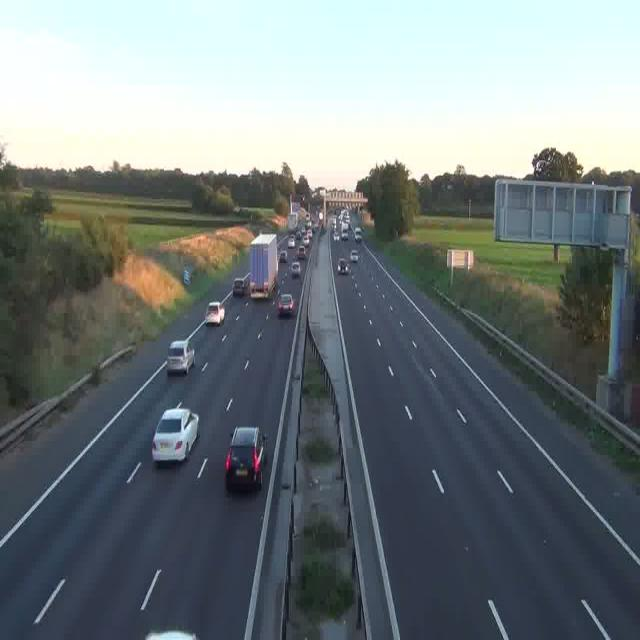car: (225, 428, 267, 492), (152, 406, 198, 462), (167, 340, 195, 372), (143, 629, 199, 640), (206, 302, 226, 326), (278, 292, 294, 316), (232, 278, 248, 300), (338, 256, 350, 273), (290, 262, 301, 278), (350, 249, 359, 262), (296, 248, 305, 261), (280, 249, 288, 262), (304, 236, 312, 248), (332, 232, 340, 243)
truck: (248, 233, 278, 298), (354, 226, 362, 242)
